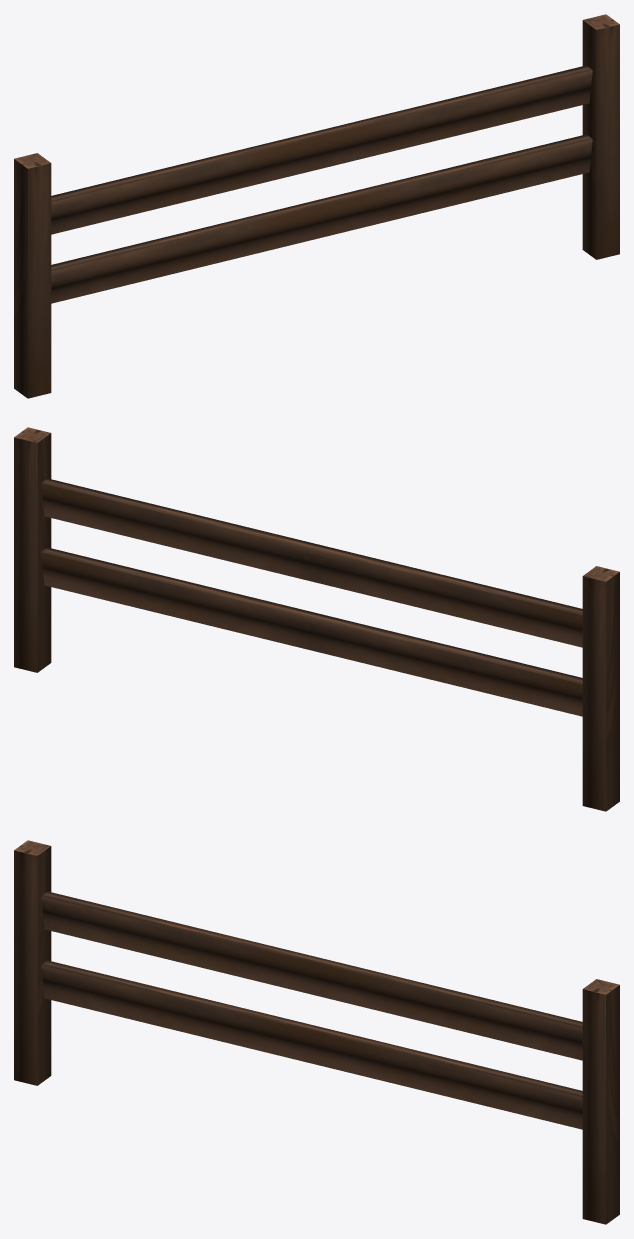
File: OutdoorM_Fence_a_single.FBX
The picture shows the model from 3 angles, top to bottom: view 1: azimuth 30°, elevation 25°; view 2: azimuth 150°, elevation 25°; view 3: azimuth 330°, elevation 25°; orthographic projection.
Parts seen in each view (by area): view 1: OutdoorM_Fence_a_single; view 2: OutdoorM_Fence_a_single; view 3: OutdoorM_Fence_a_single.
Part boxes in pixels (x1,y1,x2,y2): OutdoorM_Fence_a_single: (14,14,619,398); OutdoorM_Fence_a_single: (14,427,619,811); OutdoorM_Fence_a_single: (14,840,619,1224).
Size of the model in its own units: 36.55 by 13.56 by 1.48.
